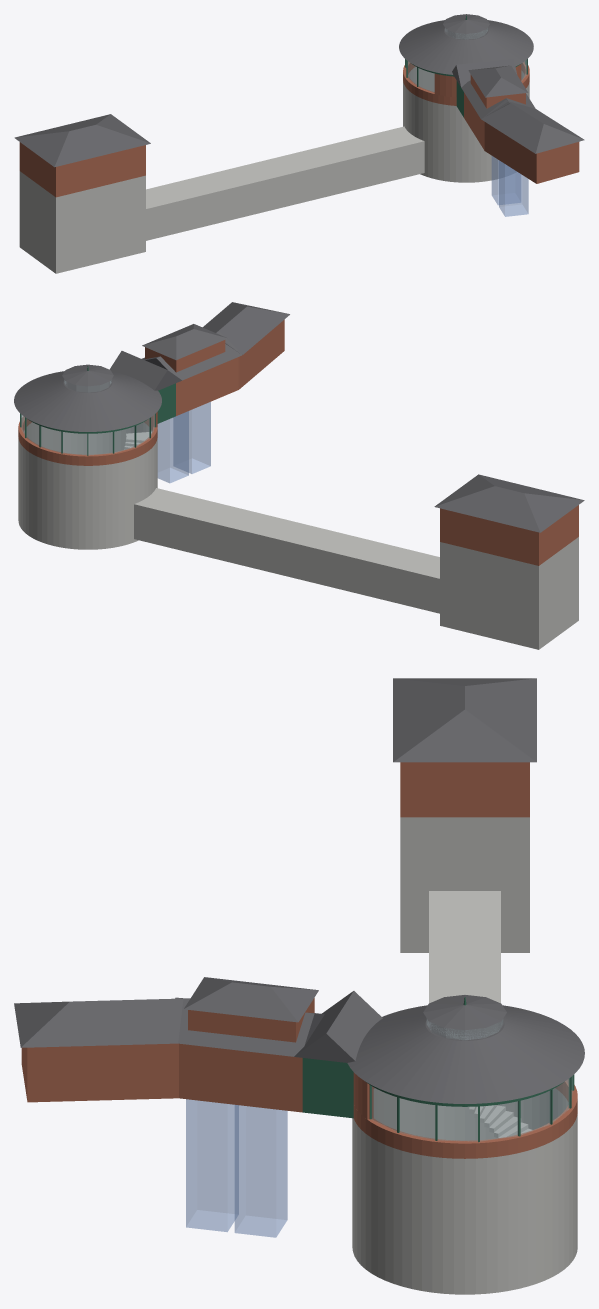
Rendered from cattle-market.glb.
The picture shows the model from 3 angles, top to bottom: view 1: azimuth 30°, elevation 25°; view 2: azimuth 150°, elevation 25°; view 3: azimuth 270°, elevation 25°; orthographic projection. The views are drawn at different scales.
Visible parts, largest first — view 1: Subway tunnel under A307, Far shaft wall S, Stair shaft wall, Drum conical roof, Far building roof, Office walls (brick), Far shaft wall W, Far building wall S, Office roof, Lift shaft 2 (ASSUMED), Raised block roof, Lift shaft 1 (ASSUMED) (+10 smaller); view 2: Subway tunnel under A307, Stair shaft wall, Far shaft wall N, Drum conical roof, Far building roof, Far building wall N, Far shaft wall W, Drum glazing, Office roof, Lift shaft 2 (ASSUMED), Lift section walls (brick), Lift shaft 1 (ASSUMED) (+11 smaller); view 3: Stair shaft wall, Drum conical roof, Far shaft wall E, Far building roof, Office walls (brick), Subway tunnel under A307, Office roof, Far building wall E, Lift section walls (brick), Lift shaft 1 (ASSUMED), Lift shaft 2 (ASSUMED), Drum glazing (+8 smaller).
Boxes of the visible parts, left/top/right/bottom form: Subway tunnel under A307: left=146, top=126, right=424, bottom=240; Far shaft wall S: left=54, top=175, right=145, bottom=270; Stair shaft wall: left=403, top=67, right=529, bottom=179; Drum conical roof: left=399, top=20, right=533, bottom=74; Far building roof: left=14, top=114, right=150, bottom=167; Office walls (brick): left=484, top=122, right=579, bottom=183; Far shaft wall W: left=19, top=172, right=59, bottom=270; Far building wall S: left=54, top=146, right=145, bottom=197; Office roof: left=481, top=100, right=584, bottom=153; Lift shaft 2 (ASSUMED): left=499, top=160, right=528, bottom=216; Raised block roof: left=468, top=65, right=528, bottom=97; Lift shaft 1 (ASSUMED): left=491, top=156, right=520, bottom=205; Subway tunnel under A307: left=134, top=488, right=439, bottom=613; Stair shaft wall: left=18, top=422, right=157, bottom=546; Far shaft wall N: left=440, top=542, right=540, bottom=646; Drum conical roof: left=14, top=371, right=161, bottom=431; Far building roof: left=434, top=474, right=584, bottom=532; Far building wall N: left=440, top=509, right=540, bottom=565; Far shaft wall W: left=536, top=538, right=578, bottom=646; Drum glazing: left=21, top=414, right=154, bottom=455; Office roof: left=202, top=302, right=289, bottom=354; Lift shaft 2 (ASSUMED): left=173, top=402, right=210, bottom=473; Lift section walls (brick): left=176, top=357, right=239, bottom=415; Lift shaft 1 (ASSUMED): left=157, top=411, right=188, bottom=483; Stair shaft wall: left=352, top=1088, right=577, bottom=1289; Drum conical roof: left=347, top=1005, right=584, bottom=1103; Far shaft wall E: left=400, top=817, right=529, bottom=947; Far building roof: left=393, top=678, right=536, bottom=762; Office walls (brick): left=21, top=1043, right=178, bottom=1102; Subway tunnel under A307: left=429, top=891, right=500, bottom=1003; Office roof: left=14, top=998, right=190, bottom=1047; Far building wall E: left=400, top=762, right=529, bottom=817; Lift section walls (brick): left=179, top=1043, right=302, bottom=1112; Lift shaft 1 (ASSUMED): left=234, top=1105, right=287, bottom=1237; Lift shaft 2 (ASSUMED): left=186, top=1099, right=238, bottom=1231; Drum glazing: left=371, top=1076, right=572, bottom=1141.
Bounding box in the file's own units: 42.01 × 11.5 × 23.81.
